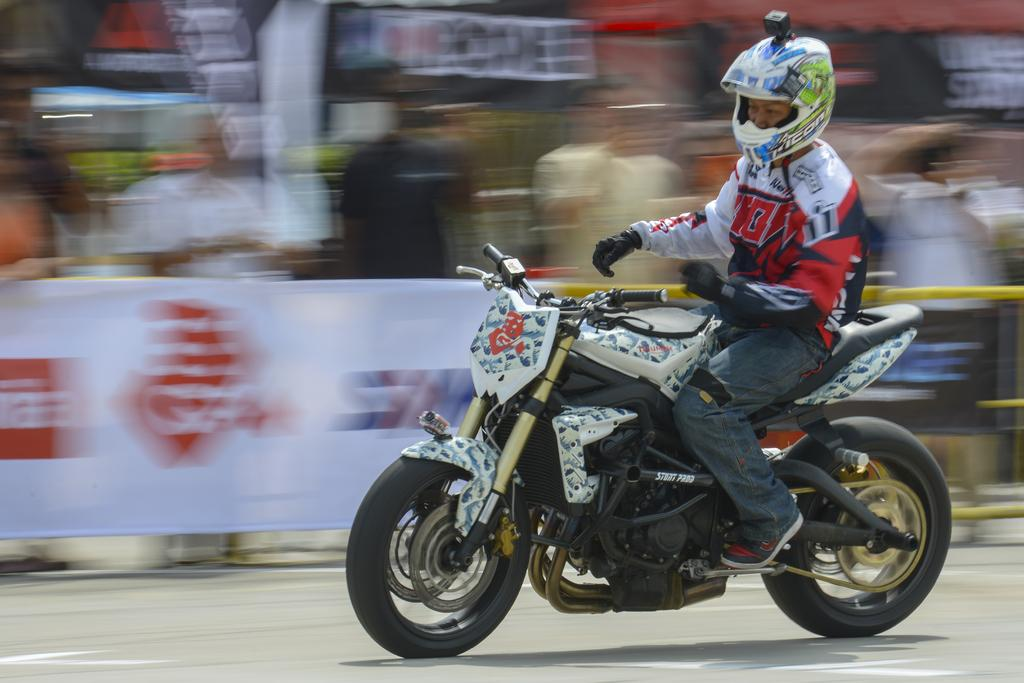helmet: (720, 35, 836, 165)
